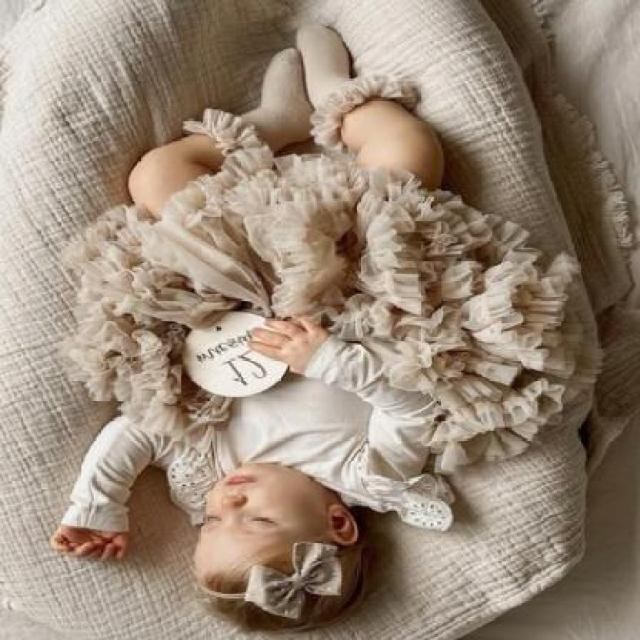baby: (49, 30, 596, 636)
